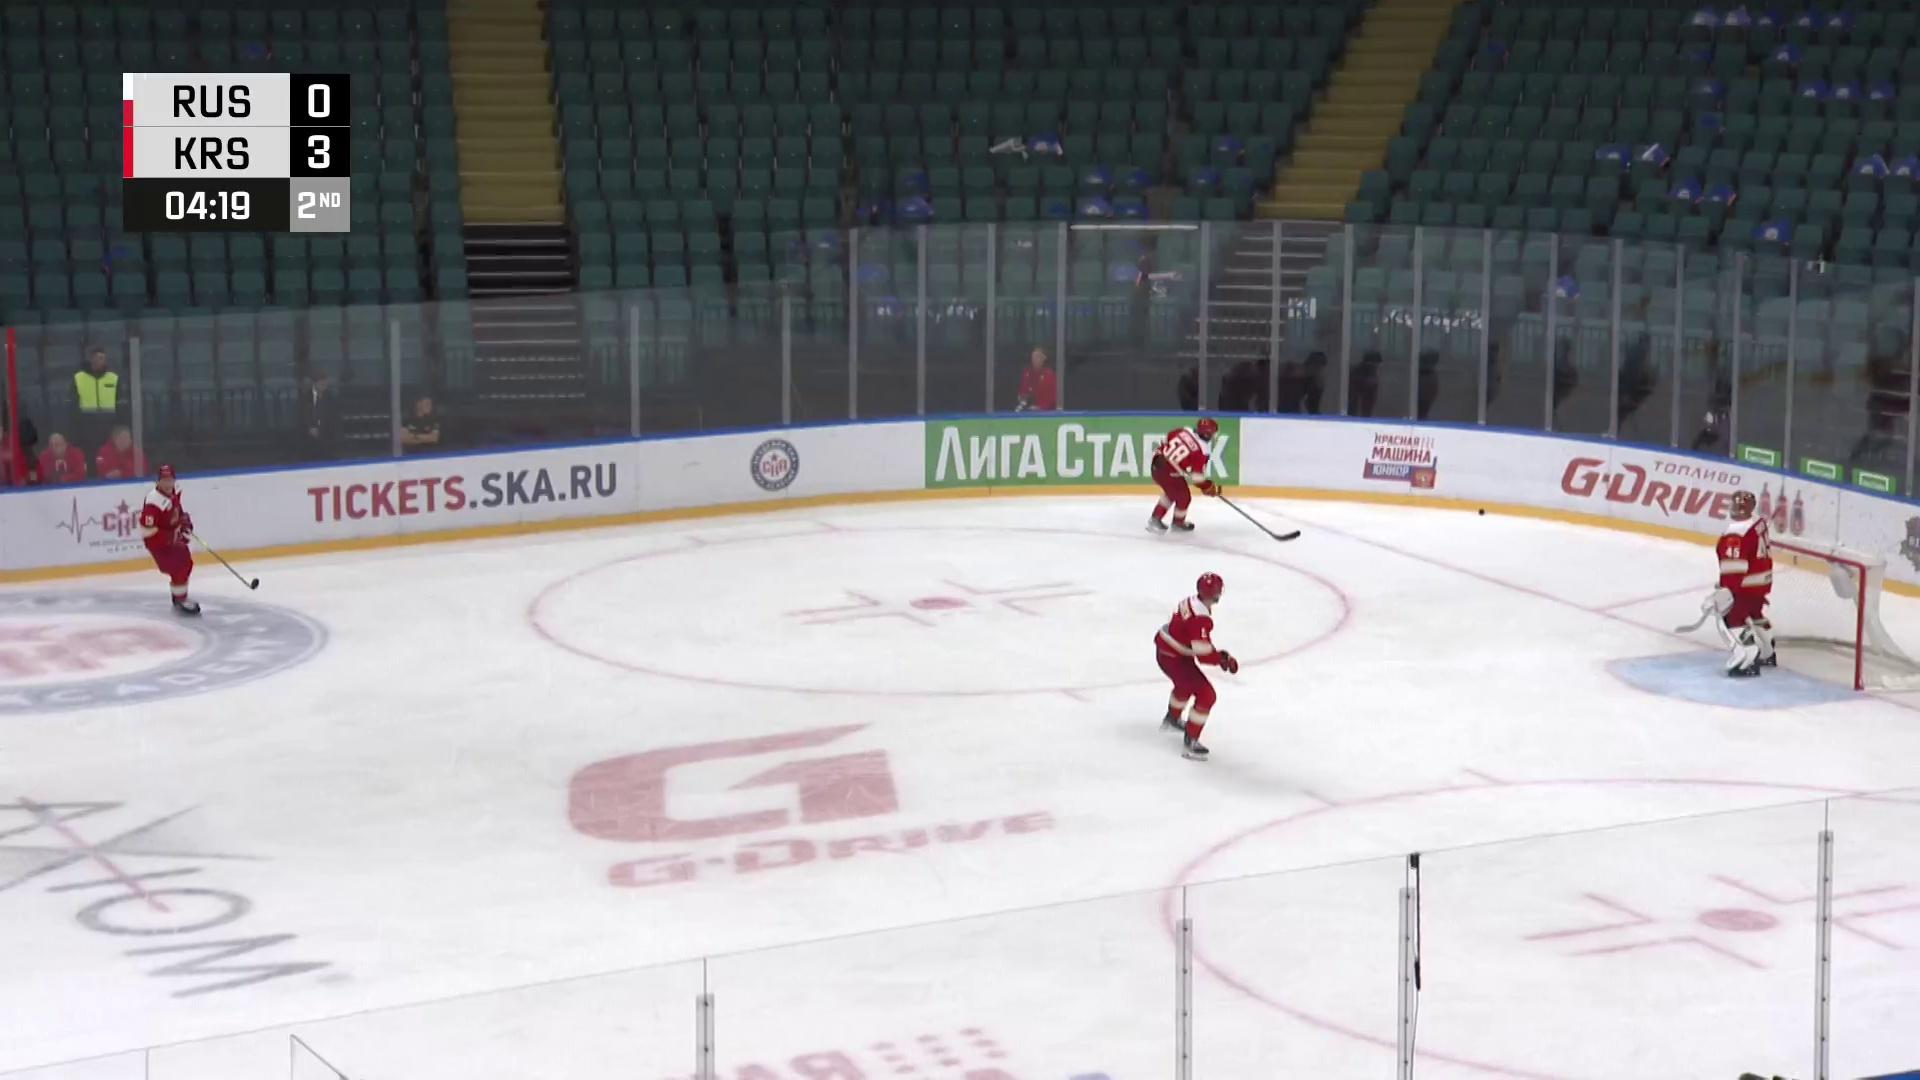ball: (1478, 508, 1486, 517)
